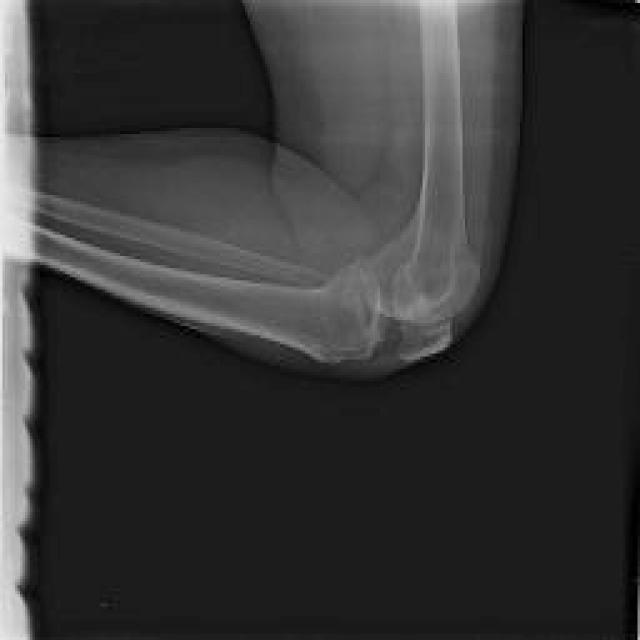normal: (0, 218, 386, 360), (365, 0, 476, 323), (0, 180, 328, 286), (399, 308, 452, 365)
